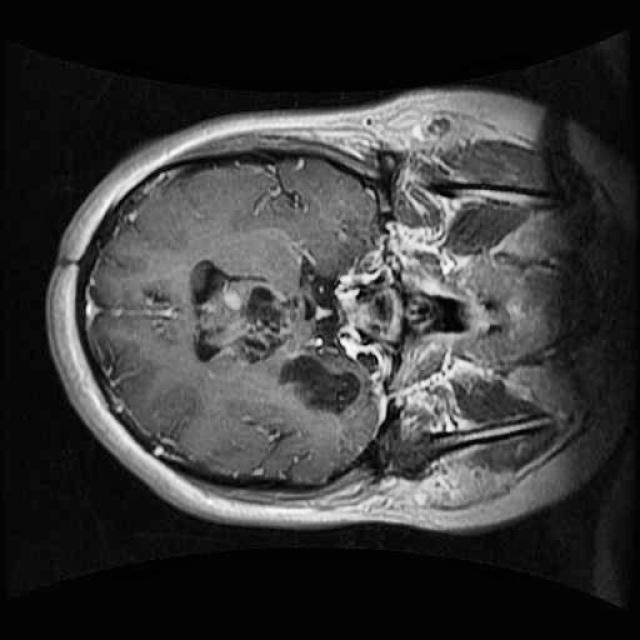Non-Tumor: (181, 264, 369, 426)
